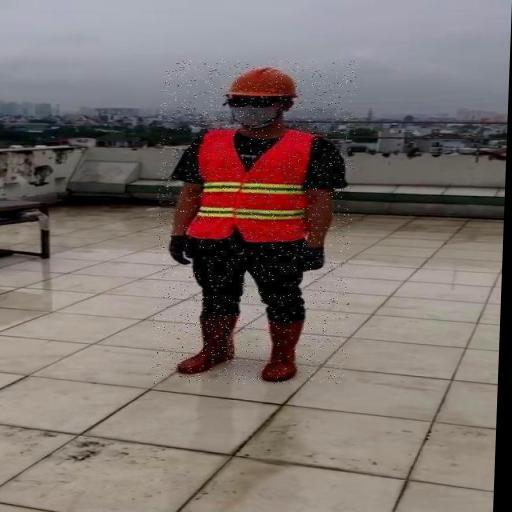safety_boots: (170, 308, 239, 383), (247, 313, 310, 395)
